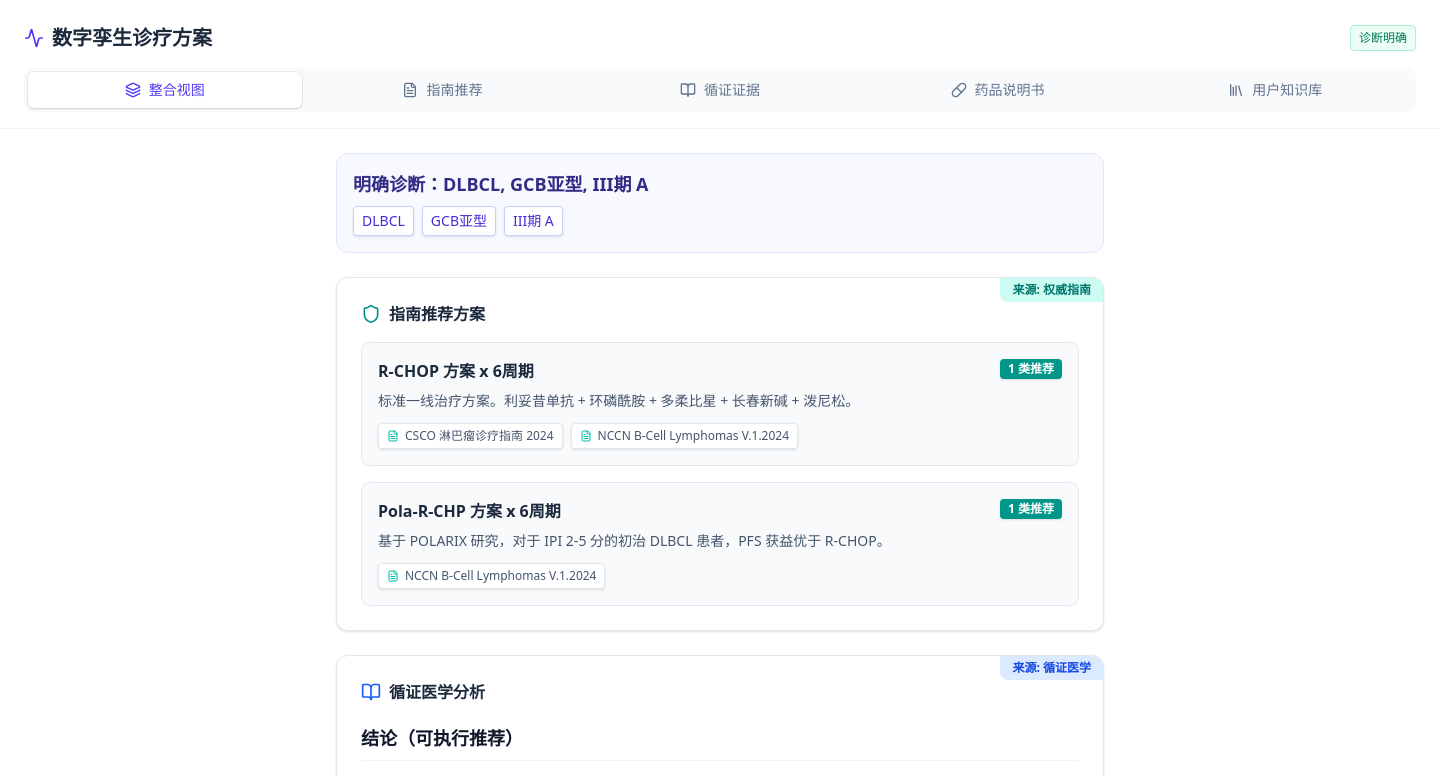
Scenario: CenterPanel › evidence tab shows analysis and key studies
The image size is (1440, 776).
What coordinates should you click on to do the following:
click the button "循证证据"
I would click on:
 (720, 90)
Its box is [583,72,857,108].
(page scrolled)
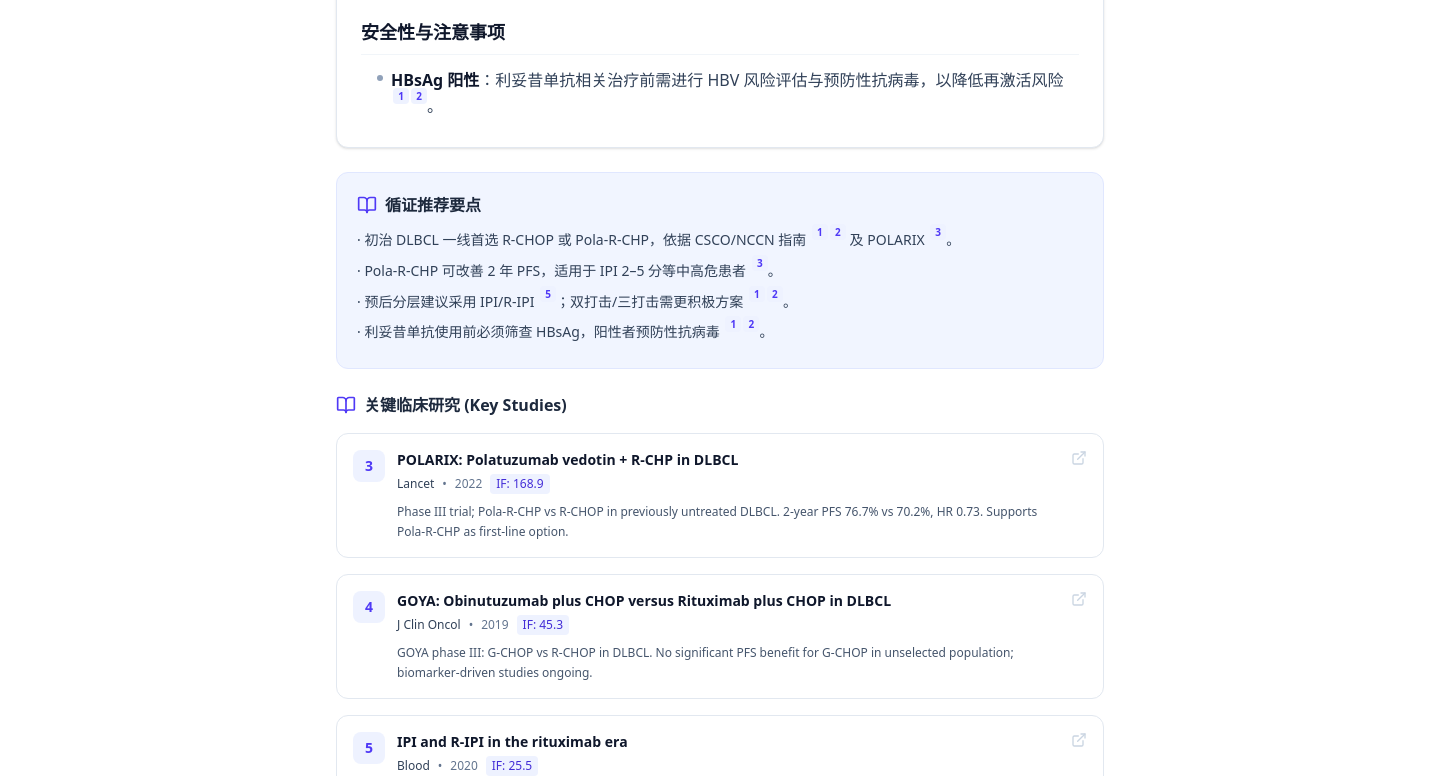
Check: the heading "关键临床研究 (Key Studies)" is shown, box [336,394,567,416]
